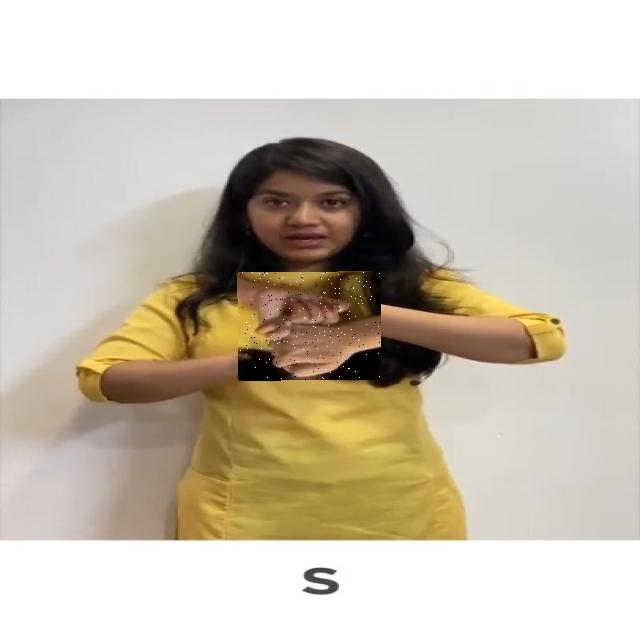S: (238, 272, 381, 380)
